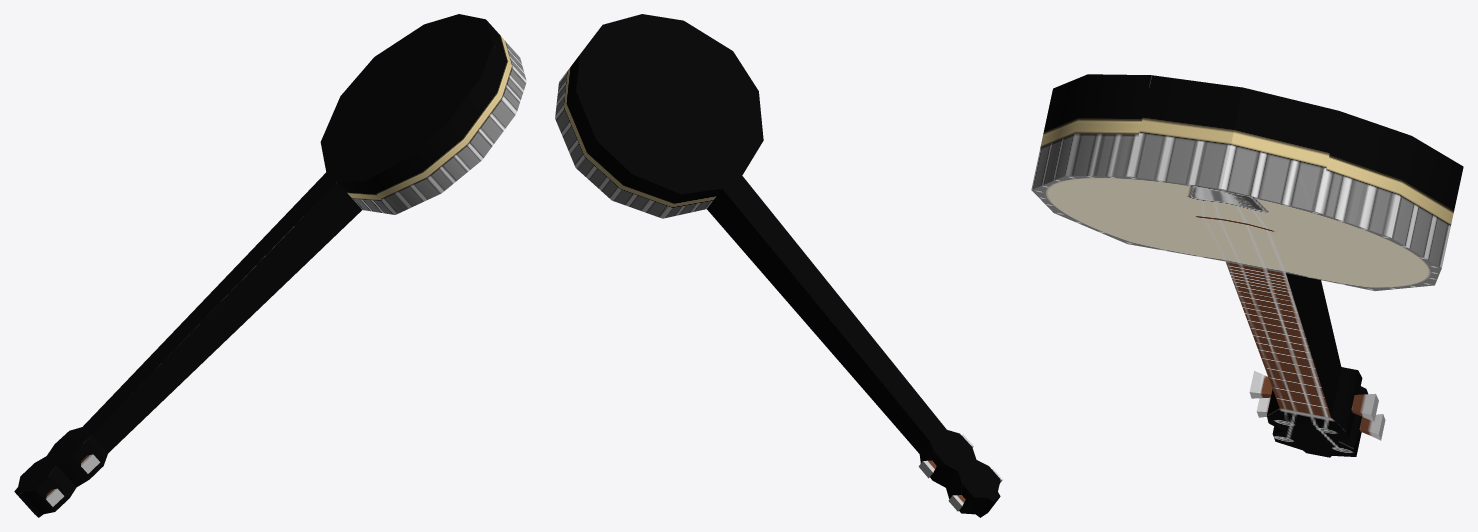
File: Guitarra1_000012.obj
The picture shows the model from 3 angles, left to right: view 1: azimuth 30°, elevation 25°; view 2: azimuth 150°, elevation 25°; view 3: azimuth 270°, elevation 25°; orthographic projection. The views are drawn at different scales.
Parts seen in each view (by area): view 1: g1_pCube6; view 2: g1_pCube6; view 3: g1_pCube6.
Boxes of the visible parts, left/top/right/bottom form: g1_pCube6: left=14, top=14, right=526, bottom=517; g1_pCube6: left=555, top=14, right=1002, bottom=517; g1_pCube6: left=1031, top=74, right=1463, bottom=457.
Size of the model in its own units: 11.01 by 9.02 by 4.65.
